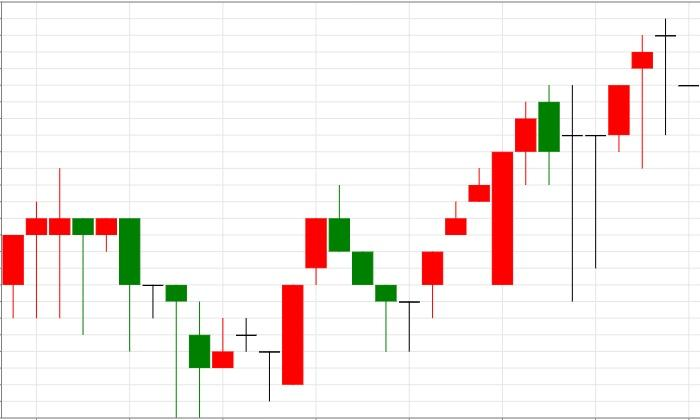three_black_crows_fall: (258, 184, 397, 402)
